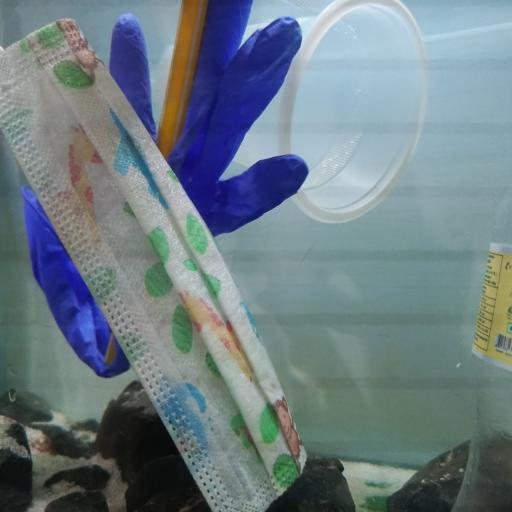glove: (24, 0, 308, 378)
mask: (0, 19, 309, 512)
plastic_bottle: (455, 183, 512, 512)
plastic_cup: (153, 0, 431, 228)
plastic_straw: (105, 0, 205, 367)
